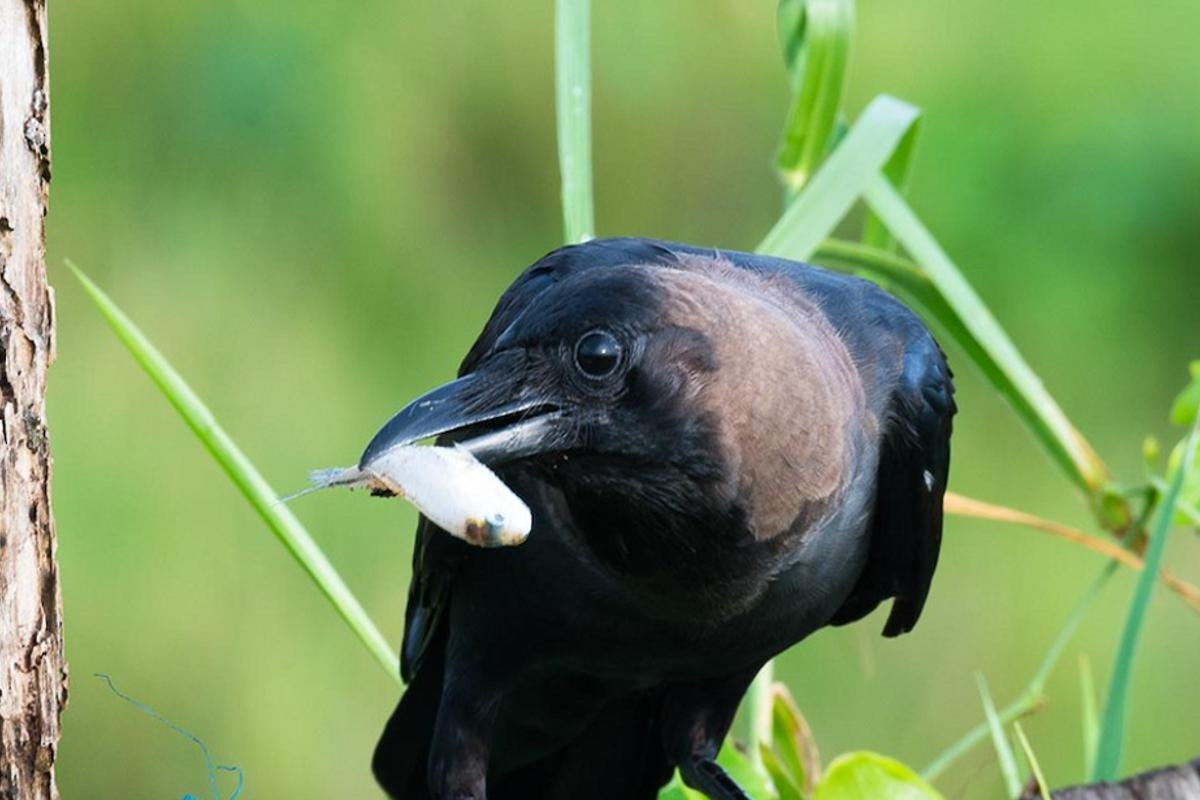crow: (304, 211, 944, 787)
